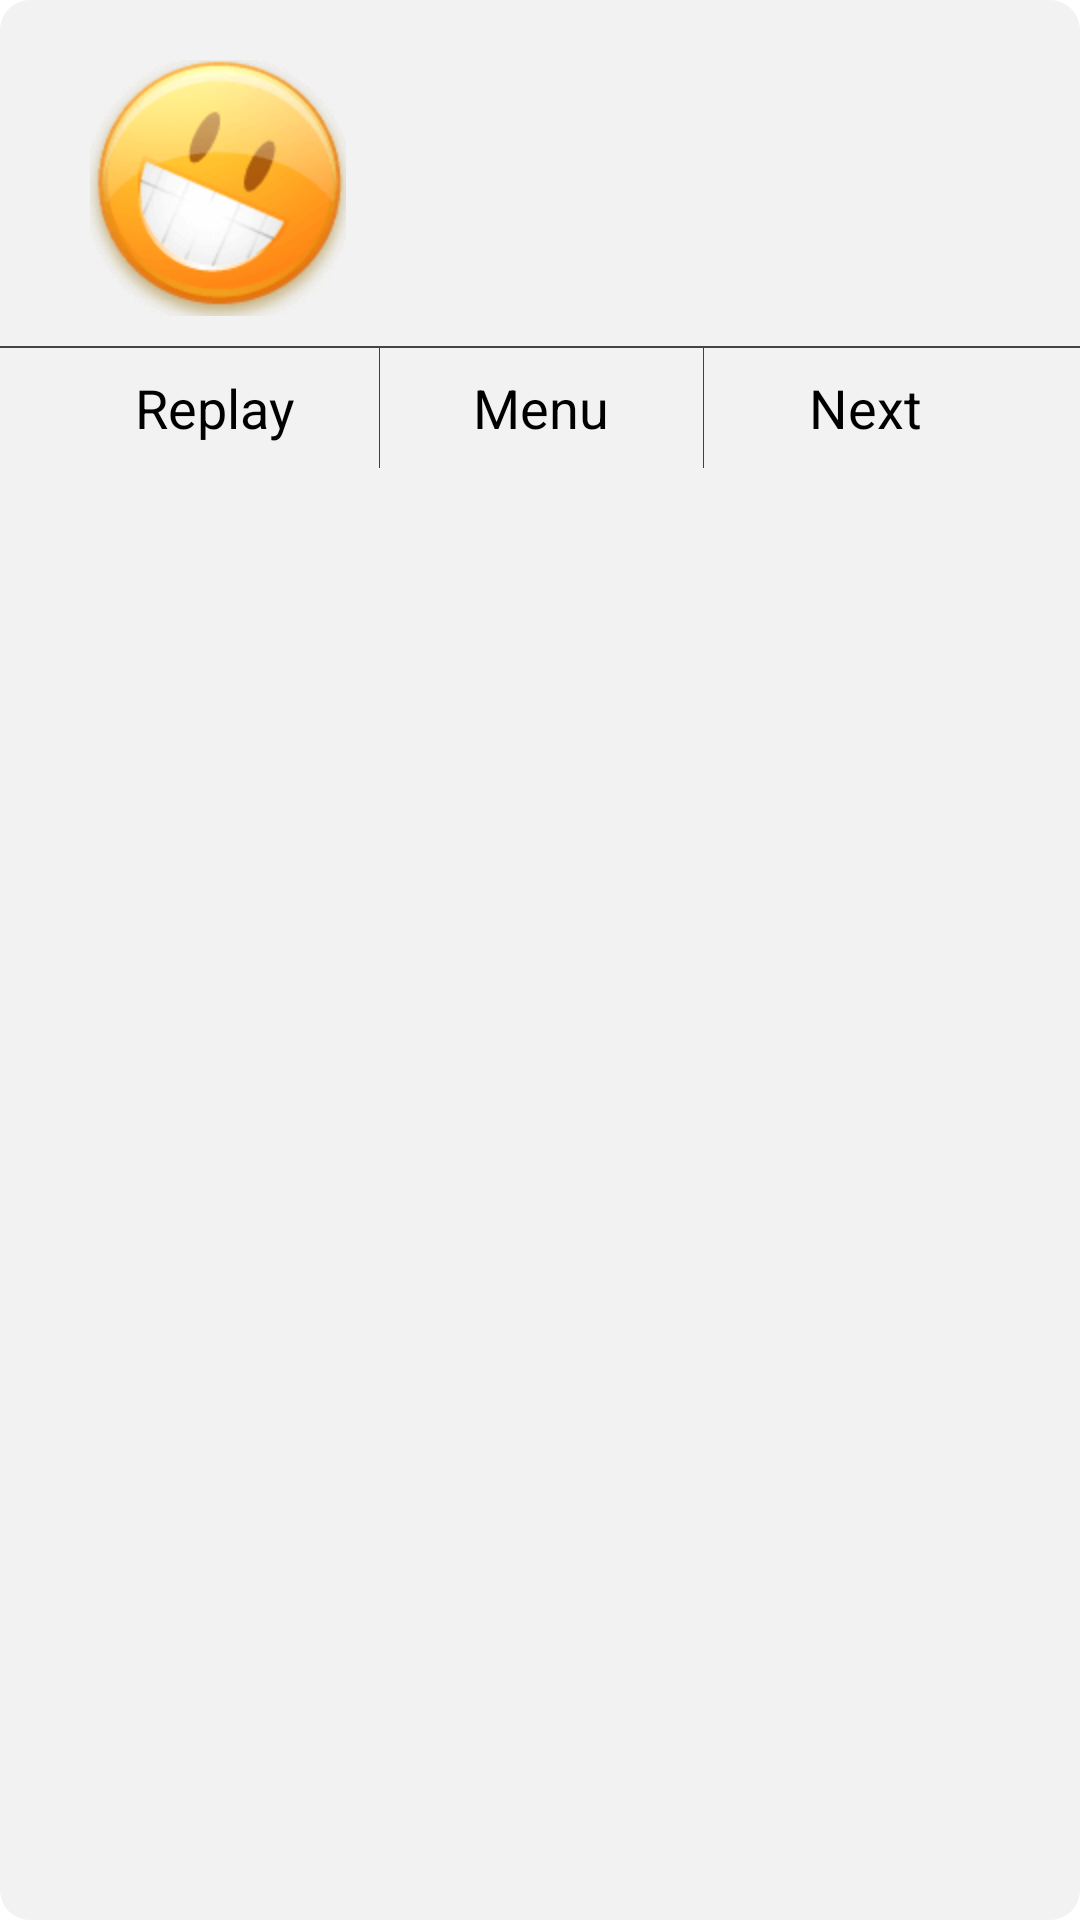

Named icons in this screenshot (1080w x 1920h) and their bounding boxes, (x1, y1, x2, y2):
emo happy: (92, 61, 346, 316)
